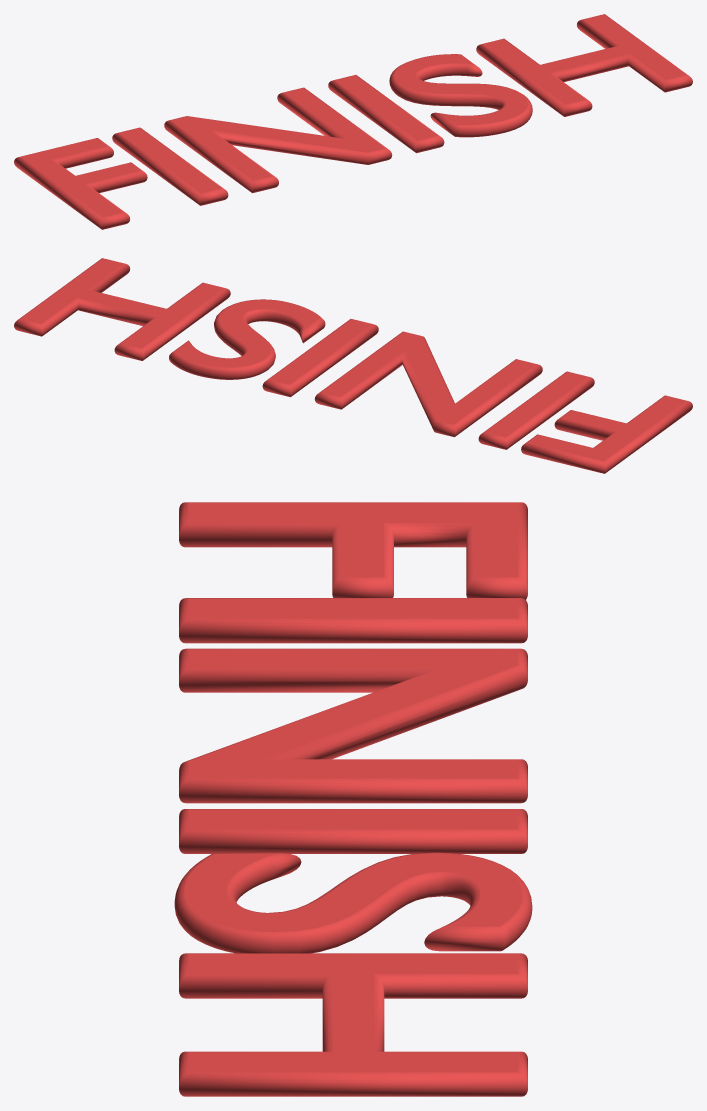
3 views of the same model, one above another, from view 1: azimuth 30°, elevation 25°; view 2: azimuth 150°, elevation 25°; view 3: azimuth 270°, elevation 25° (orthographic). The views are drawn at different scales.
Parts seen in each view (by area): view 1: start; view 2: start; view 3: start.
Part boxes in pixels (x1=…): start: x1=14, y1=14, x2=692, y2=229; start: x1=14, y1=258, x2=692, y2=473; start: x1=174, y1=502, x2=532, y2=1096.
Size of the model in its own units: 1.06 by 0.2774 by 0.0204.
